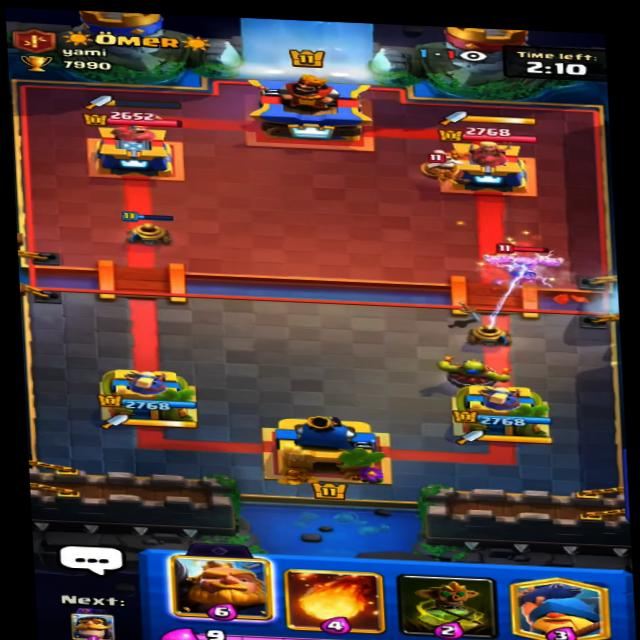barbarian-hut: (407, 139, 474, 180)
phoenix: (483, 240, 570, 290)
